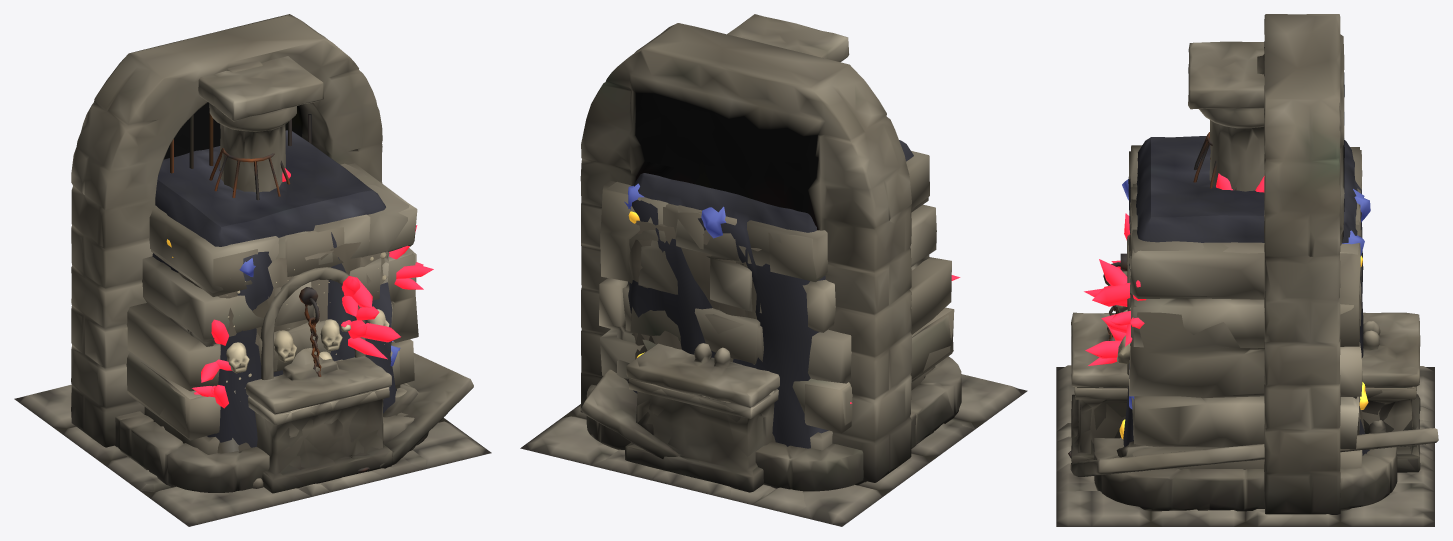
Rendered from bioma_catacumbas.glb.
The picture shows the model from 3 angles, left to right: view 1: azimuth 30°, elevation 25°; view 2: azimuth 150°, elevation 25°; view 3: azimuth 270°, elevation 25°; orthographic projection. The views are drawn at different scales.
Parts seen in each view (by area): view 1: deco_reja_cripta_malla, pared_borde_malla, pared_dura_b_malla, pared_dura_a_malla, deco_sarcofago_malla, deco_columna_malla, deco_sarcofago_abierto_malla, deco_agua_negra_malla, veta_sangre_malla, piso_e_malla, piso_c_malla, pared_blanda_c_malla (+7 smaller); view 2: deco_reja_cripta_malla, pared_dura_a_malla, pared_borde_malla, pared_dura_b_malla, deco_sarcofago_malla, deco_sarcofago_abierto_malla, deco_agua_negra_malla, piso_a_malla, deco_columna_malla, piso_e_malla, veta_hierro_malla, piso_b_malla (+3 smaller); view 3: deco_reja_cripta_malla, pared_dura_a_malla, pared_dura_b_malla, pared_borde_malla, deco_sarcofago_malla, deco_agua_negra_malla, deco_columna_malla, deco_sarcofago_abierto_malla, piso_c_malla, piso_a_malla, veta_sangre_malla, piso_e_malla (+3 smaller).
Boxes of the visible parts, x1,y1,x2,y2 form: deco_reja_cripta_malla: (71,14,382,447); pared_borde_malla: (152,130,396,447); pared_dura_b_malla: (126,163,416,472); pared_dura_a_malla: (126,163,418,454); deco_sarcofago_malla: (246,348,392,493); deco_columna_malla: (198,56,323,192); deco_sarcofago_abierto_malla: (248,353,473,493); deco_agua_negra_malla: (115,411,428,492); veta_sangre_malla: (179,168,433,451); piso_e_malla: (20,403,439,524); piso_c_malla: (14,397,491,526); pared_blanda_c_malla: (260,239,370,379); deco_reja_cripta_malla: (580,23,911,482); pared_dura_a_malla: (599,180,954,450); pared_borde_malla: (627,140,913,448); pared_dura_b_malla: (600,151,953,425); deco_sarcofago_malla: (625,343,779,491); deco_sarcofago_abierto_malla: (580,369,778,492); deco_agua_negra_malla: (586,356,961,491); piso_a_malla: (526,416,973,524); deco_columna_malla: (727,14,849,62); piso_e_malla: (731,374,1021,524); veta_hierro_malla: (624,183,745,316); piso_b_malla: (798,422,973,524); deco_reja_cripta_malla: (1257,14,1344,514); pared_dura_a_malla: (1129,150,1362,469); pared_dura_b_malla: (1068,145,1362,458); pared_borde_malla: (1123,136,1369,455); deco_sarcofago_malla: (1071,312,1420,472); deco_agua_negra_malla: (1094,438,1397,511); deco_columna_malla: (1188,41,1264,191); deco_sarcofago_abierto_malla: (1070,386,1438,476); piso_c_malla: (1056,367,1434,526); piso_a_malla: (1151,381,1434,526); veta_sangre_malla: (1084,173,1364,430); piso_e_malla: (1056,365,1434,526).
Bounding box in the file's own units: 2.01 × 2.33 × 2.02.
